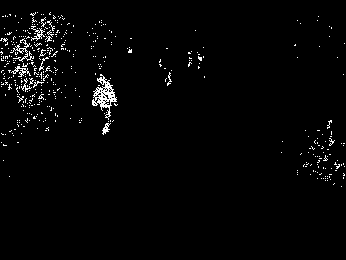person: (90, 72, 119, 135)
